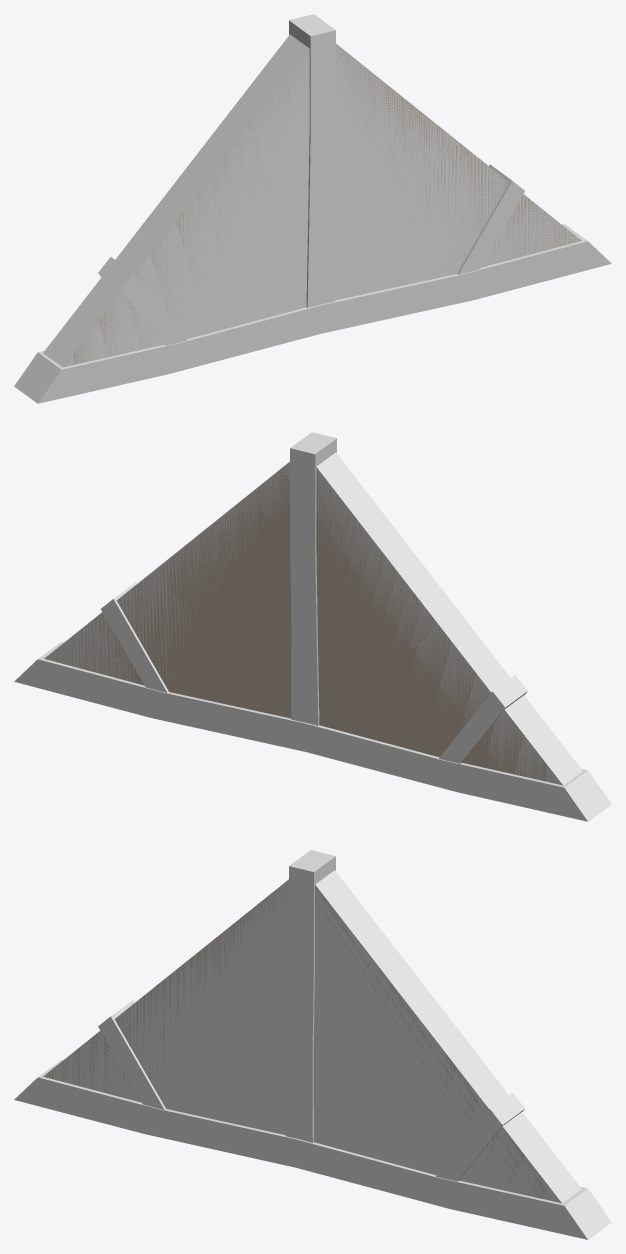
File: Gable_Top_1_2X.fbx
The picture shows the model from 3 angles, top to bottom: view 1: azimuth 30°, elevation 25°; view 2: azimuth 150°, elevation 25°; view 3: azimuth 330°, elevation 25°; orthographic projection.
Visible parts, largest first — view 1: Gable_Top_1_2X_COL0, Gable_Top_1_2X_LOD0; view 2: Gable_Top_1_2X_LOD0, Gable_Top_1_2X_COL0; view 3: Gable_Top_1_2X_COL0, Gable_Top_1_2X_LOD0.
Boxes of the visible parts, x1,y1,x2,y2 form: Gable_Top_1_2X_COL0: (43, 34, 581, 367); Gable_Top_1_2X_LOD0: (14, 14, 611, 403); Gable_Top_1_2X_LOD0: (14, 432, 611, 821); Gable_Top_1_2X_COL0: (44, 452, 582, 785); Gable_Top_1_2X_COL0: (43, 870, 581, 1203); Gable_Top_1_2X_LOD0: (14, 850, 611, 1239).
Size of what is drawn, in the model's own units: 420 by 212 by 30.18.
